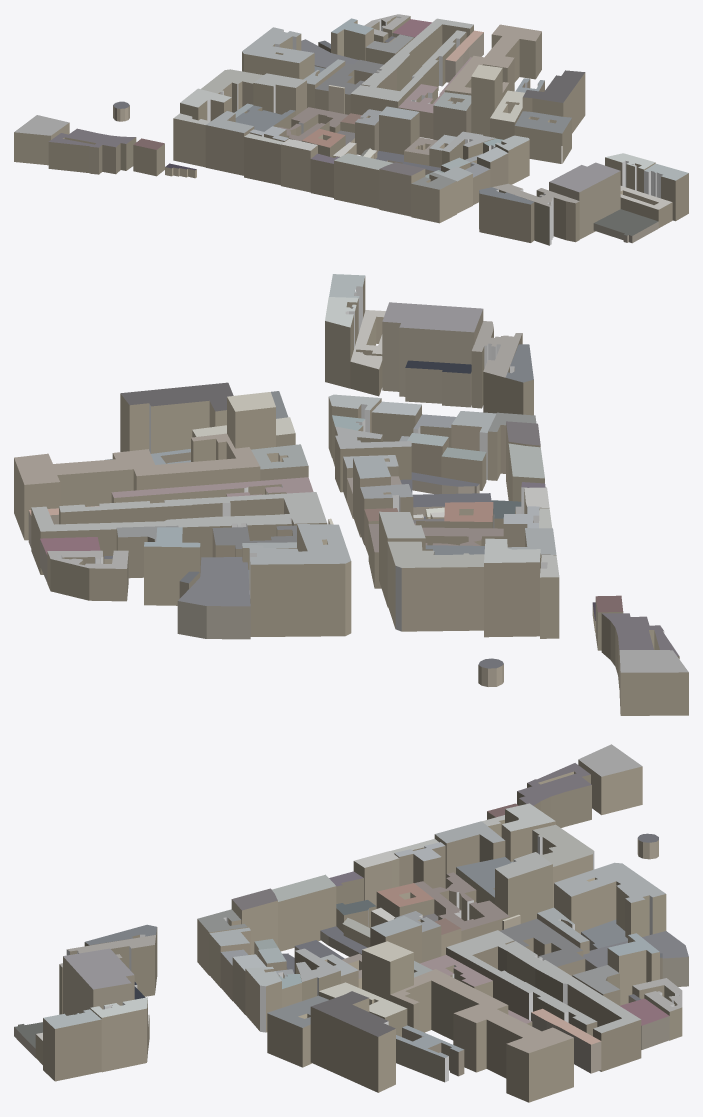
The picture shows the model from 3 angles, top to bottom: view 1: azimuth 30°, elevation 25°; view 2: azimuth 150°, elevation 25°; view 3: azimuth 270°, elevation 25°; orthographic projection. The views are drawn at different scales.
Parts seen in each view (by area): view 1: tuile; view 2: tuile; view 3: tuile.
Boxes of the visible parts, <box> form: tuile: <box>14,14,688,245</box>; tuile: <box>14,274,688,715</box>; tuile: <box>14,744,688,1102</box>.
Bounding box in the file's own units: 293 × 38.07 × 267.
